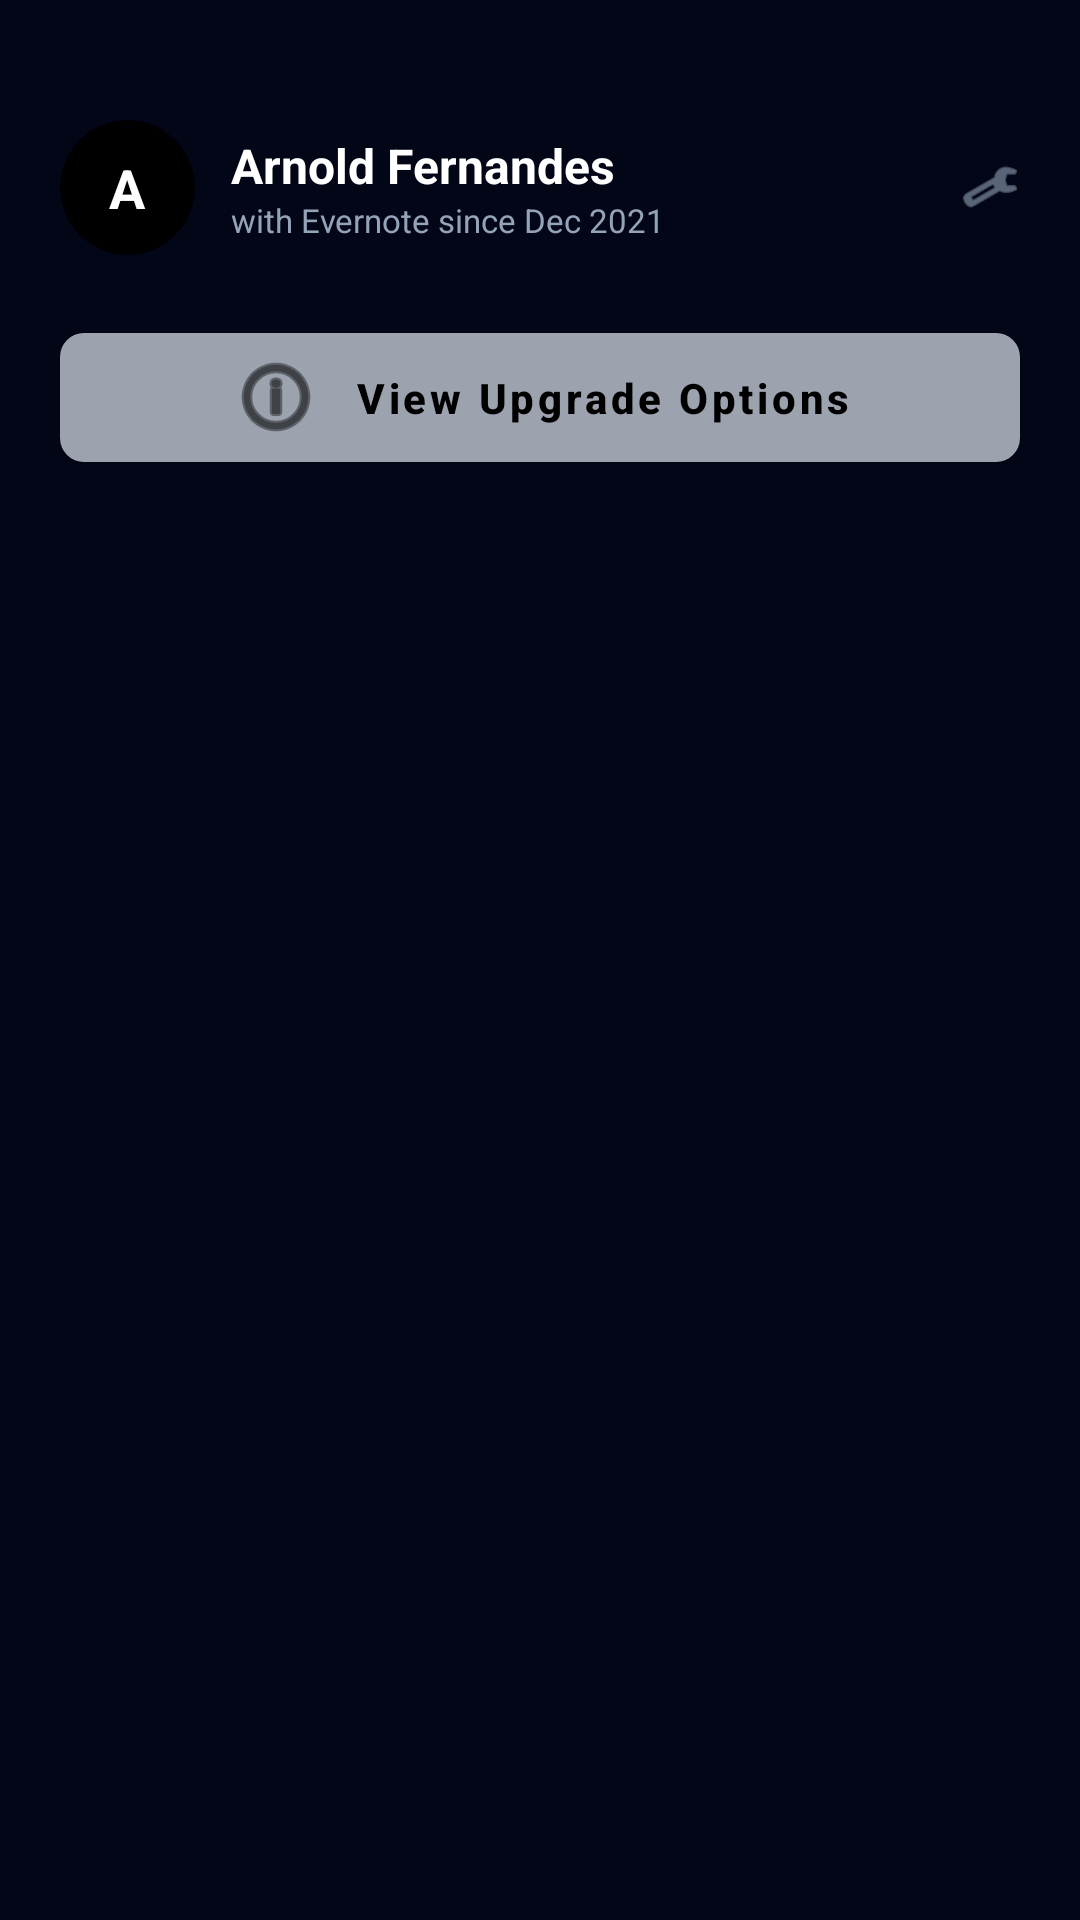

Named icons in this screenshot (1080×1920) and their bounding boxes, (x1, y1, x2, y2):
manage: (963, 166, 1017, 208)
